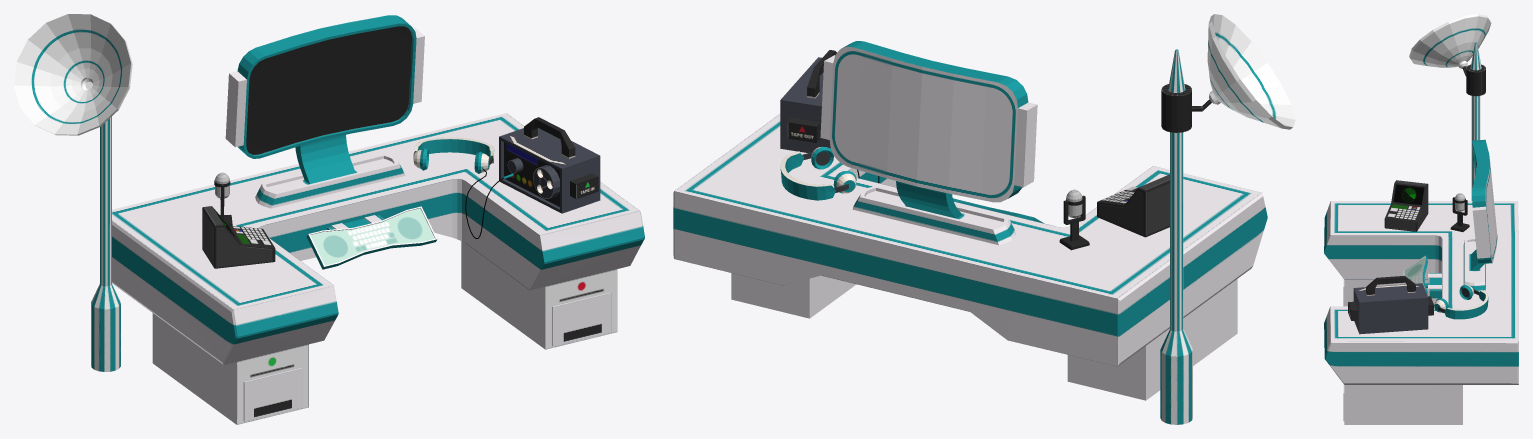
The model's file is Communication.dae.
The picture shows the model from 3 angles, left to right: view 1: azimuth 30°, elevation 25°; view 2: azimuth 150°, elevation 25°; view 3: azimuth 270°, elevation 25°; orthographic projection. The views are drawn at different scales.
Parts seen in each view (by area): view 1: Desk Component, Monitor, Antenna, Tape Player, Keyboard, Radar Device, Headset; view 2: Desk Component, Monitor, Antenna, Tape Player, Radar Device, Headset, Microphone; view 3: Desk Component, Antenna, Tape Player, Monitor, Radar Device, Headset, Keyboard, Microphone.
Part boxes in pixels (box(x1,y1,x2,y2)): Desk Component: box(112, 113, 644, 424); Monitor: box(225, 15, 424, 208); Antenna: box(14, 14, 132, 371); Tape Player: box(499, 117, 600, 213); Keyboard: box(306, 206, 437, 269); Radar Device: box(202, 206, 275, 268); Headset: box(413, 137, 513, 238); Desk Component: box(673, 113, 1267, 400); Monitor: box(820, 41, 1037, 245); Antenna: box(1160, 14, 1295, 424); Tape Player: box(780, 50, 836, 152); Radar Device: box(1097, 174, 1169, 237); Headset: box(780, 146, 879, 200); Microphone: box(1059, 189, 1089, 250); Desk Component: box(1324, 201, 1518, 424); Antenna: box(1409, 14, 1491, 200); Tape Player: box(1348, 276, 1433, 334); Monitor: box(1463, 139, 1497, 293); Radar Device: box(1384, 180, 1428, 231); Headset: box(1434, 285, 1488, 319); Keyboard: box(1403, 255, 1441, 298); Microphone: box(1450, 193, 1469, 231).
Size of the model in its own units: 4.29 by 1.95 by 2.84.
